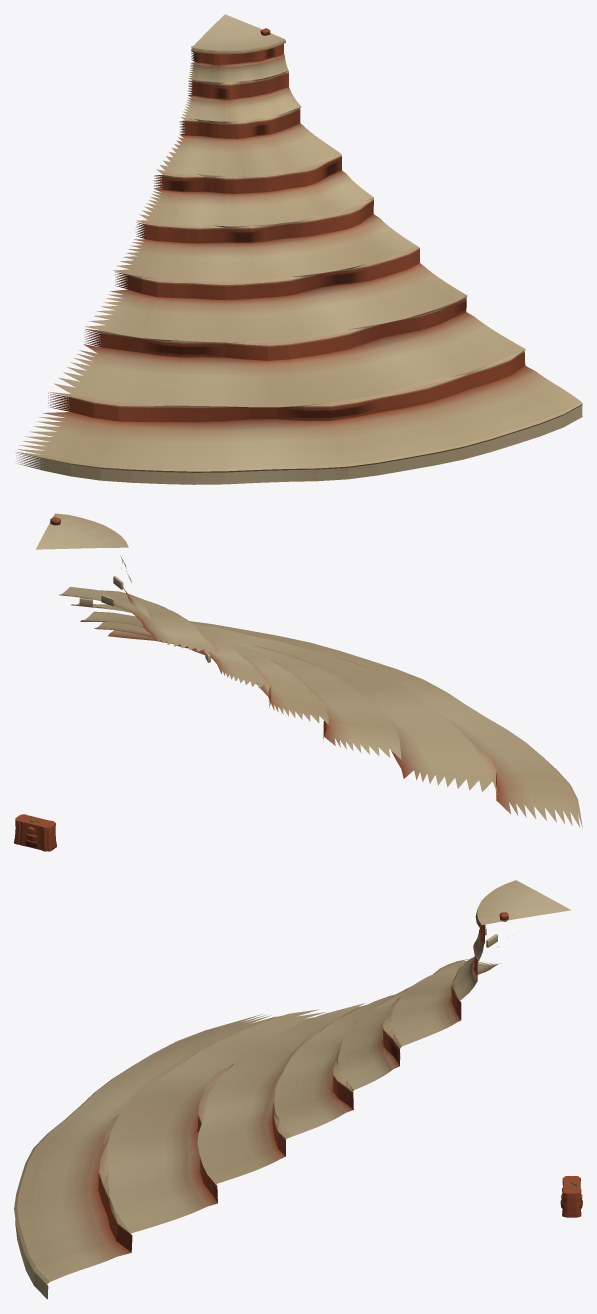
File: canyon-s3-4XcAVmsr.glb
3 renders of one model, top to bottom at view 1: azimuth 30°, elevation 25°; view 2: azimuth 150°, elevation 25°; view 3: azimuth 270°, elevation 25°, orthographic. The views are drawn at different scales.
Parts seen in each view (by area): view 1: sc_landmark_3; view 2: sc_landmark_3, sc_cliffbase; view 3: sc_landmark_3, sc_cliffbase.
Part boxes in pixels (x1,y1,x2,y2): sc_landmark_3: (16, 14, 582, 484); sc_landmark_3: (35, 513, 582, 829); sc_cliffbase: (14, 814, 56, 851); sc_landmark_3: (14, 880, 571, 1299); sc_cliffbase: (562, 1176, 581, 1217).
Bounding box in the file's own units: 493 × 271 × 438.
